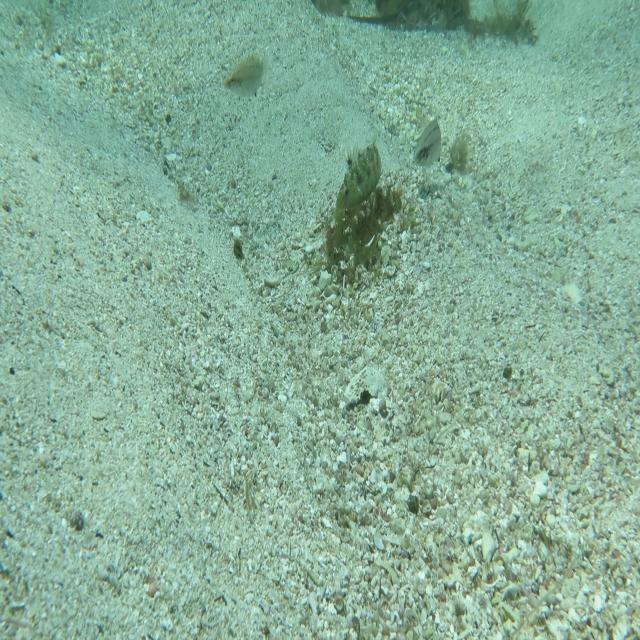BEND_OPP: (334, 134, 385, 216)
female: (410, 118, 444, 171)
nest: (316, 172, 413, 282)
